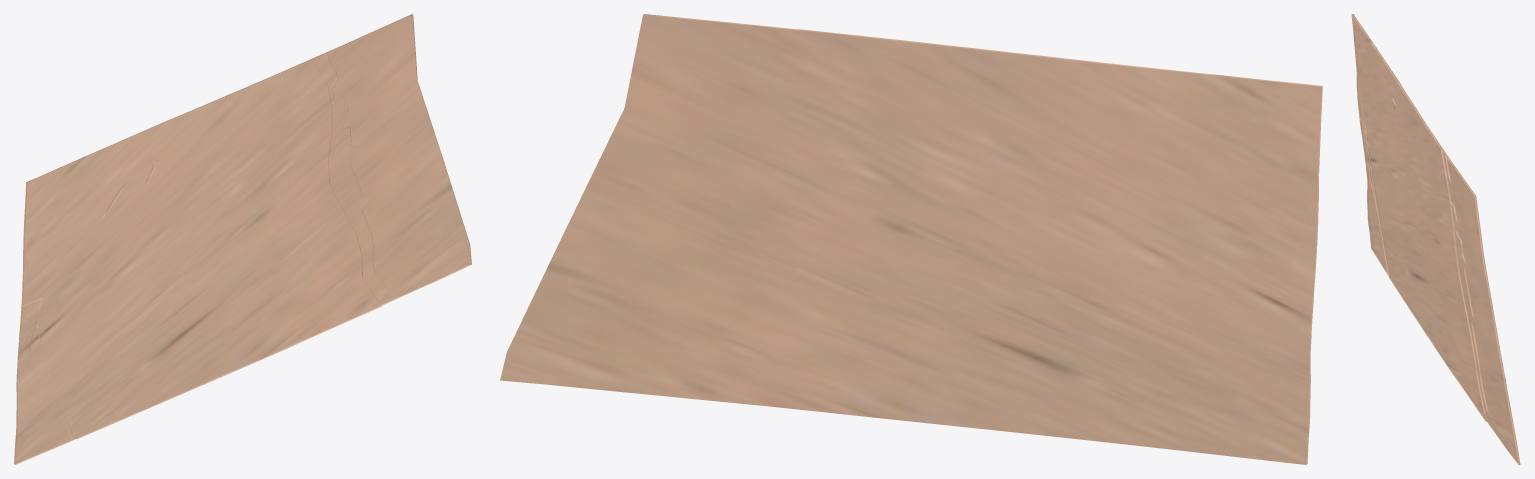
The picture shows the model from 3 angles, left to right: view 1: azimuth 30°, elevation 25°; view 2: azimuth 150°, elevation 25°; view 3: azimuth 270°, elevation 25°; orthographic projection. The views are drawn at different scales.
Bounding box in the file's own units: 25.98 × 13.17 × 8.59.
1 material, 1 textured.
